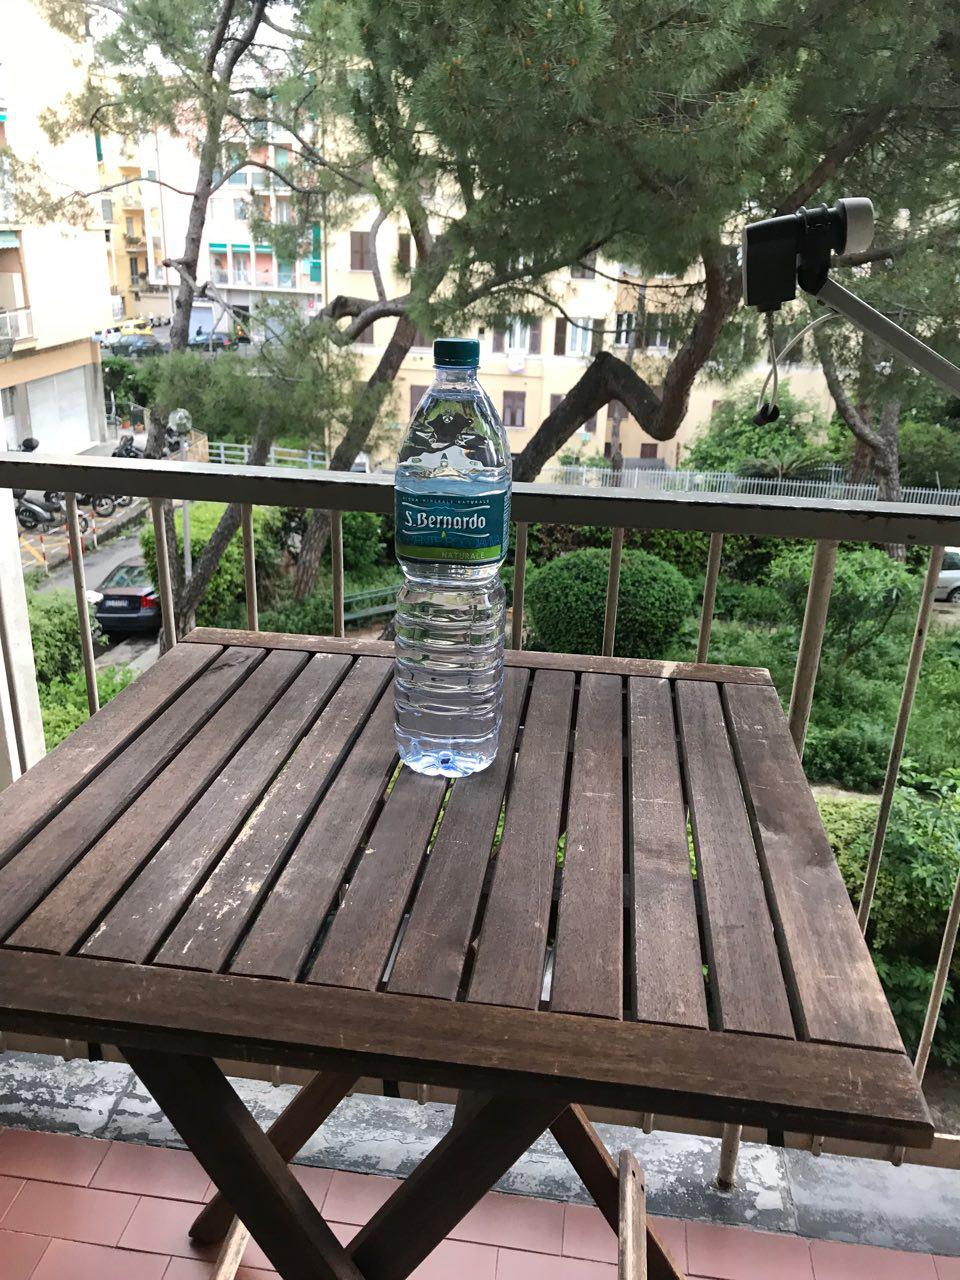san_bernardo: (393, 337, 513, 778)
